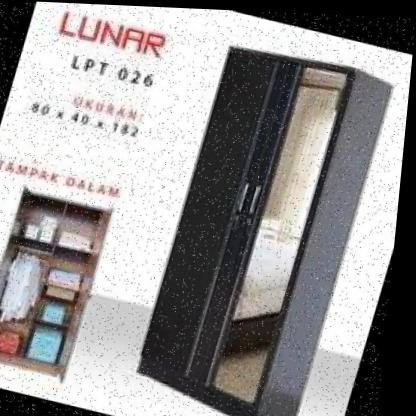Closet: (127, 32, 407, 416), (0, 180, 125, 389)
